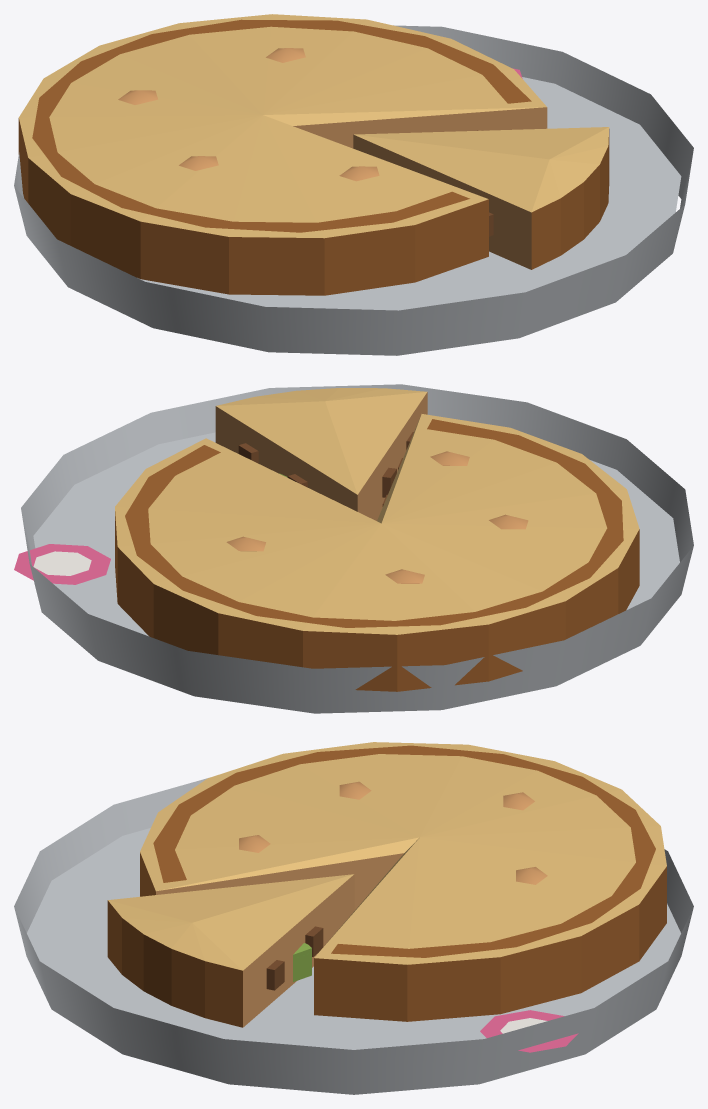
The model's file is pass_keema_paratha.glb.
The picture shows the model from 3 angles, top to bottom: view 1: azimuth 30°, elevation 25°; view 2: azimuth 150°, elevation 25°; view 3: azimuth 270°, elevation 25°; orthographic projection.
Visible parts, largest first — view 1: pass_keema_paratha; view 2: pass_keema_paratha; view 3: pass_keema_paratha.
Part boxes in pixels (<box>): pass_keema_paratha: <box>14,14,693,355</box>; pass_keema_paratha: <box>14,384,693,713</box>; pass_keema_paratha: <box>14,742,693,1094</box>.
Bounding box in the file's own units: 0.27 × 0.043 × 0.27.
Materials: 1 (1 with a texture image).
